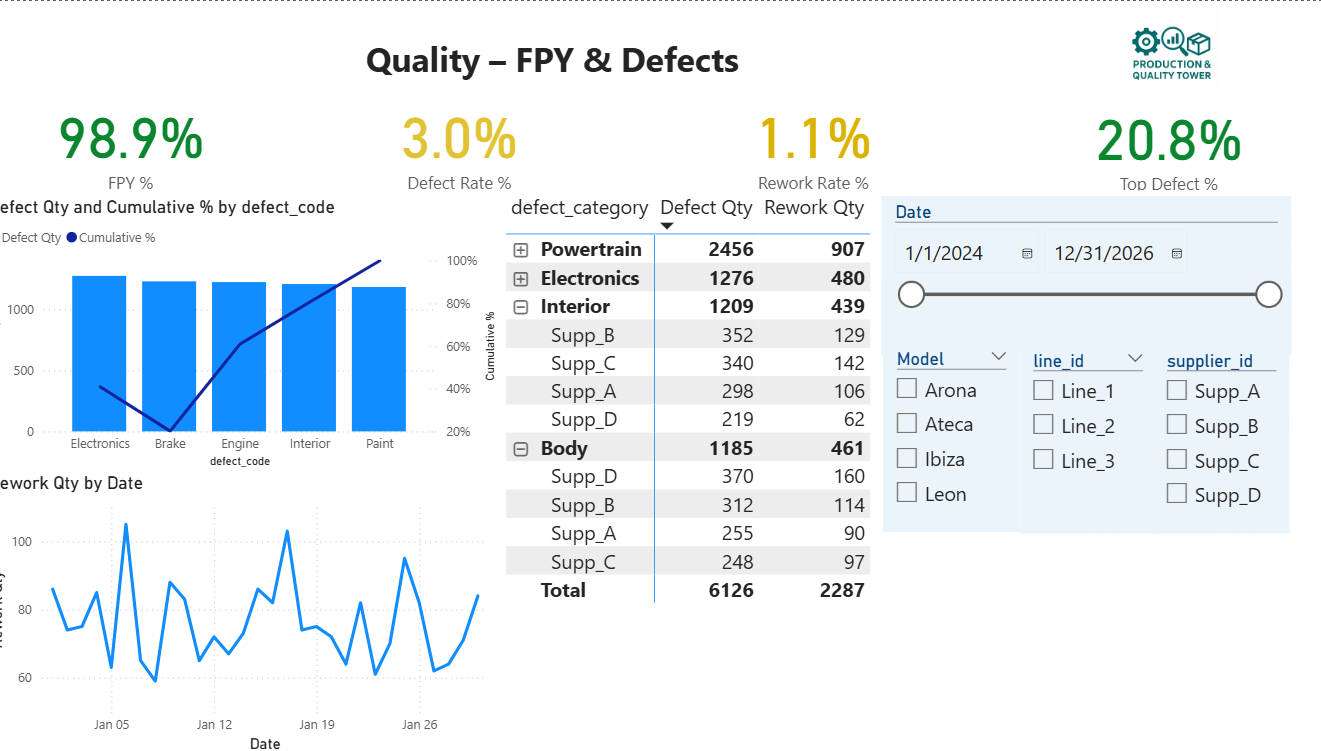

The dashboard page shown, as its layout file describes it:
{"tool":"powerbi","page":{"name":"Quality","canvas":[1280,720],"ordinal":2},"visuals":[{"type":"lineStackedColumnComboChart","fields":{"Category":["Quality_Defects.defect_code"],"Y":["_Measures.Defect Qty"],"Y2":["_Measures.Cumulative %"]},"box":[0,185.7,492.9,262.9],"z":0},{"type":"pivotTable","fields":{"Rows":["Quality_Defects.defect_category","Quality_Defects.supplier_id"],"Values":["_Measures.Defect Qty","_Measures.Rework Qty"]},"box":[492.9,177.1,362.9,542.9],"z":1000},{"type":"slicer","fields":{"Values":["Dim_Date.Date"]},"box":[855.7,185.7,390,151.4],"z":2000},{"type":"slicer","fields":{"Values":["Dim_Model.model_id"]},"box":[857.1,326.2,130,180],"z":3000},{"type":"slicer","fields":{"Values":["Production_Shifts.line_id"]},"box":[987.1,327.6,130,180],"z":4000},{"type":"slicer","fields":{"Values":["Quality_Defects.supplier_id"]},"box":[1114.3,327.6,130,180],"z":6000},{"type":"image","box":[992.9,0,277.1,104.3],"z":7000},{"type":"textbox","box":[50,27.1,984.3,54.3],"z":8000},{"type":"card","fields":{"Values":["_Measures.FPY %"]},"box":[39.8,84.9,200.3,99.5],"z":9000},{"type":"card","fields":{"Values":["_Measures.Defect Rate %"]},"box":[328.5,84.9,249.4,99.5],"z":10000},{"type":"card","fields":{"Values":["_Measures.Rework Rate %"]},"box":[666.3,84.9,249.4,99.5],"z":11000},{"type":"card","fields":{"Values":["_Measures.Top Defect %"]},"box":[1004.1,86.2,249.4,99.5],"z":12000},{"type":"lineChart","fields":{"Y":["_Measures.Rework Qty"],"Category":["Dim_Date.Date"]},"box":[0,449,493,271],"z":13000}]}

Visuals, with their boxes in screenshot pixels (x1, y1, x2, y2), scaled from the page's 1280x720 canvas onto the 1321x751 screenshot:
lineStackedColumnComboChart - Quality_Defects.defect_code x _Measures.Defect Qty: box(0, 194, 509, 468)
pivotTable - Quality_Defects.defect_category x Quality_Defects.supplier_id: box(509, 185, 883, 750)
slicer - Dim_Date.Date: box(883, 194, 1286, 352)
slicer - Dim_Model.model_id: box(885, 340, 1019, 528)
slicer - Production_Shifts.line_id: box(1019, 342, 1153, 529)
slicer - Quality_Defects.supplier_id: box(1150, 342, 1284, 529)
image: box(1025, 0, 1311, 109)
textbox: box(52, 28, 1067, 85)
card - _Measures.FPY %: box(41, 89, 248, 192)
card - _Measures.Defect Rate %: box(339, 89, 596, 192)
card - _Measures.Rework Rate %: box(688, 89, 945, 192)
card - _Measures.Top Defect %: box(1036, 90, 1294, 194)
lineChart - _Measures.Rework Qty x Dim_Date.Date: box(0, 468, 509, 750)
